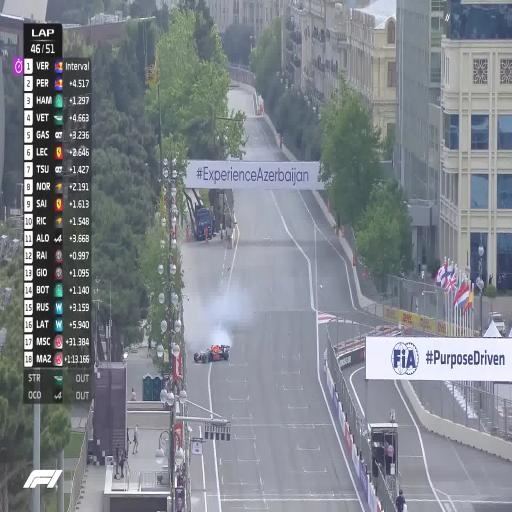f1_car: (193, 345, 230, 362)
